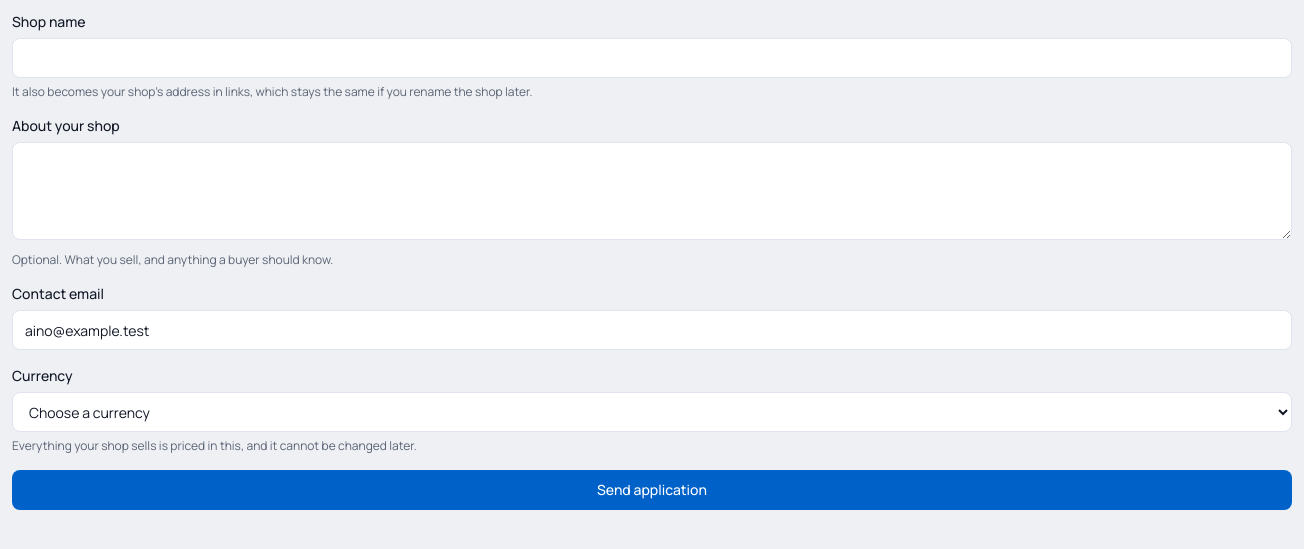
Test: ShopApplicationForm › puts the API's refusal beside the field, and keeps what was typed
The width and height of the screenshot is (1304, 549).
Step 1. Type "K" into the field labelled "Shop name" → [652, 58], box [12,38,1292,78]
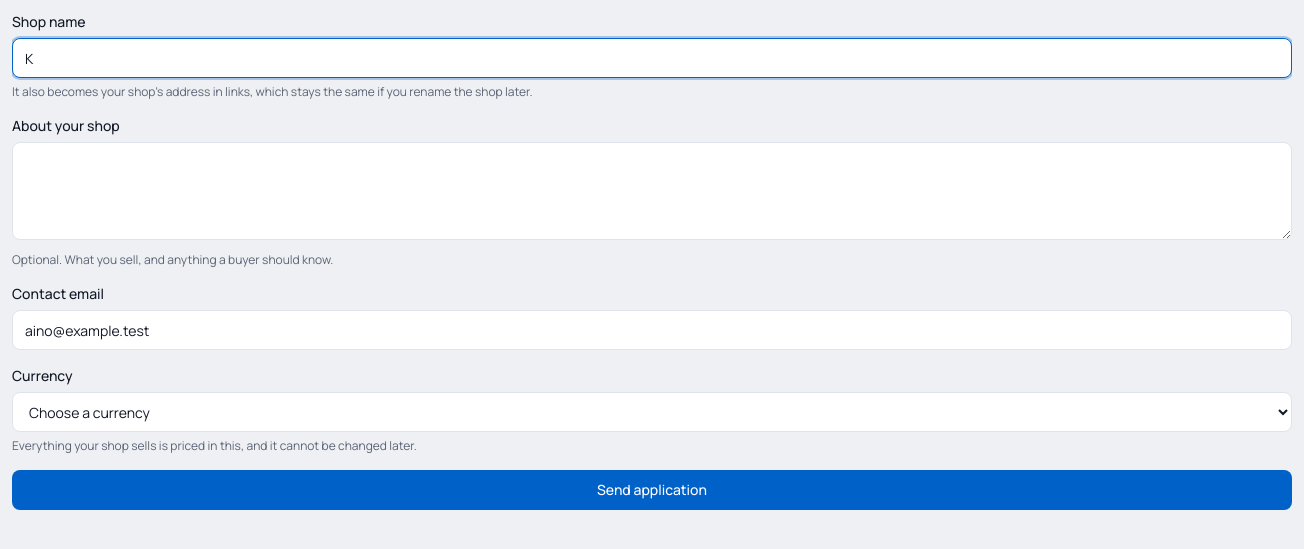
Step 2. Select "Euro (EUR)" in the dropdown labelled "Currency" → [652, 412], box [12,392,1292,432]
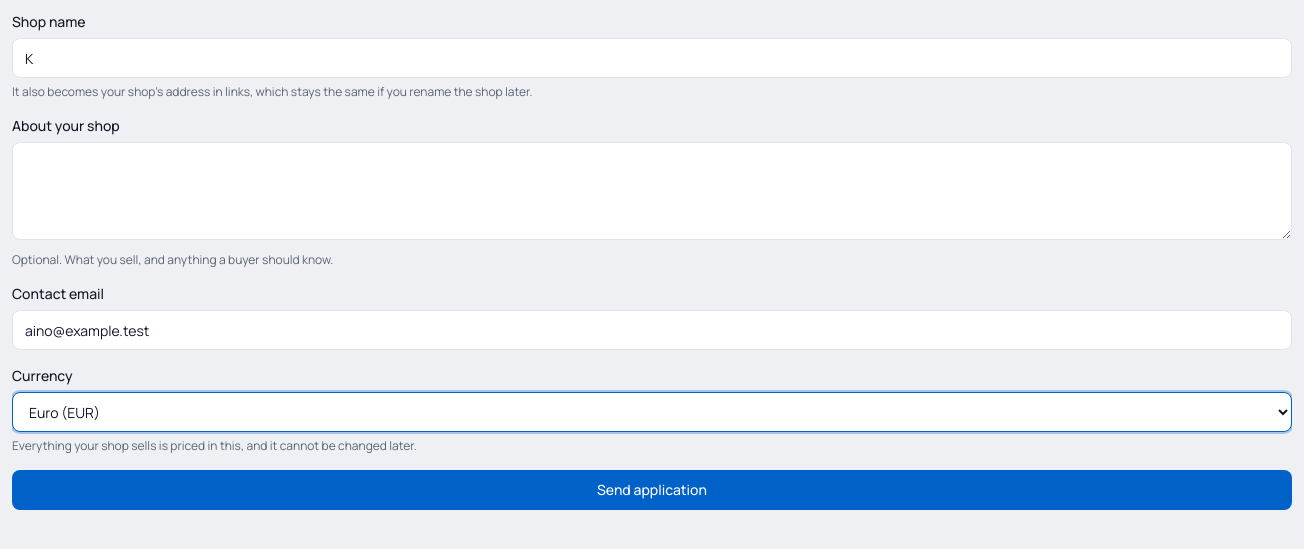
Step 3. Click the button "Send application" → [652, 490], box [12,470,1292,510]
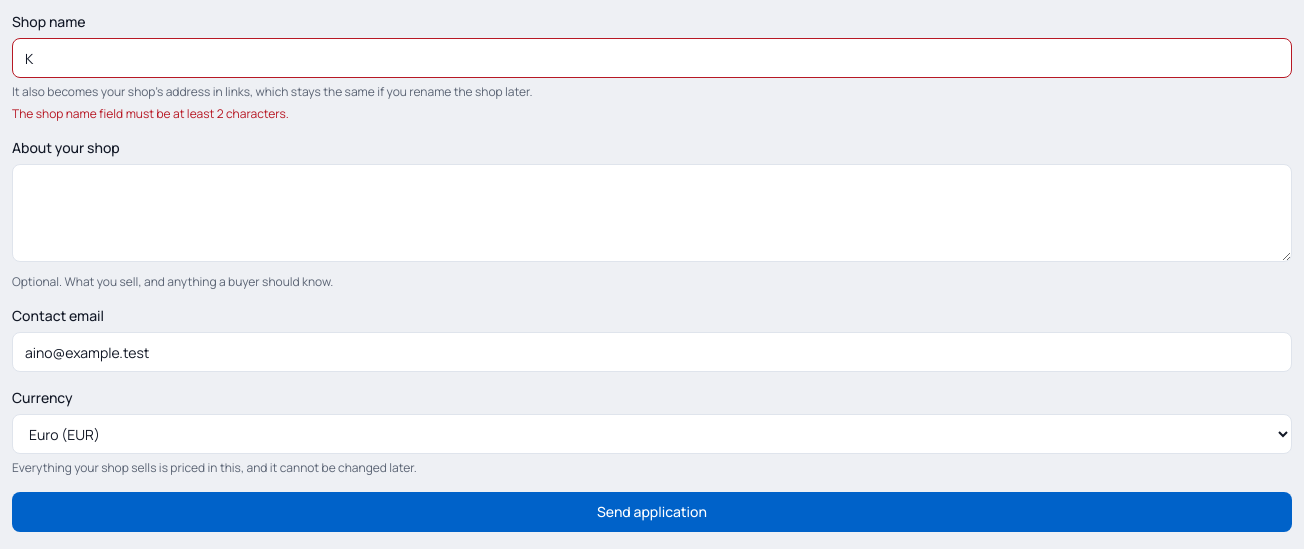
Result: the list item "The shop name field must be at least 2 characters." is shown at [12,105,289,122]
